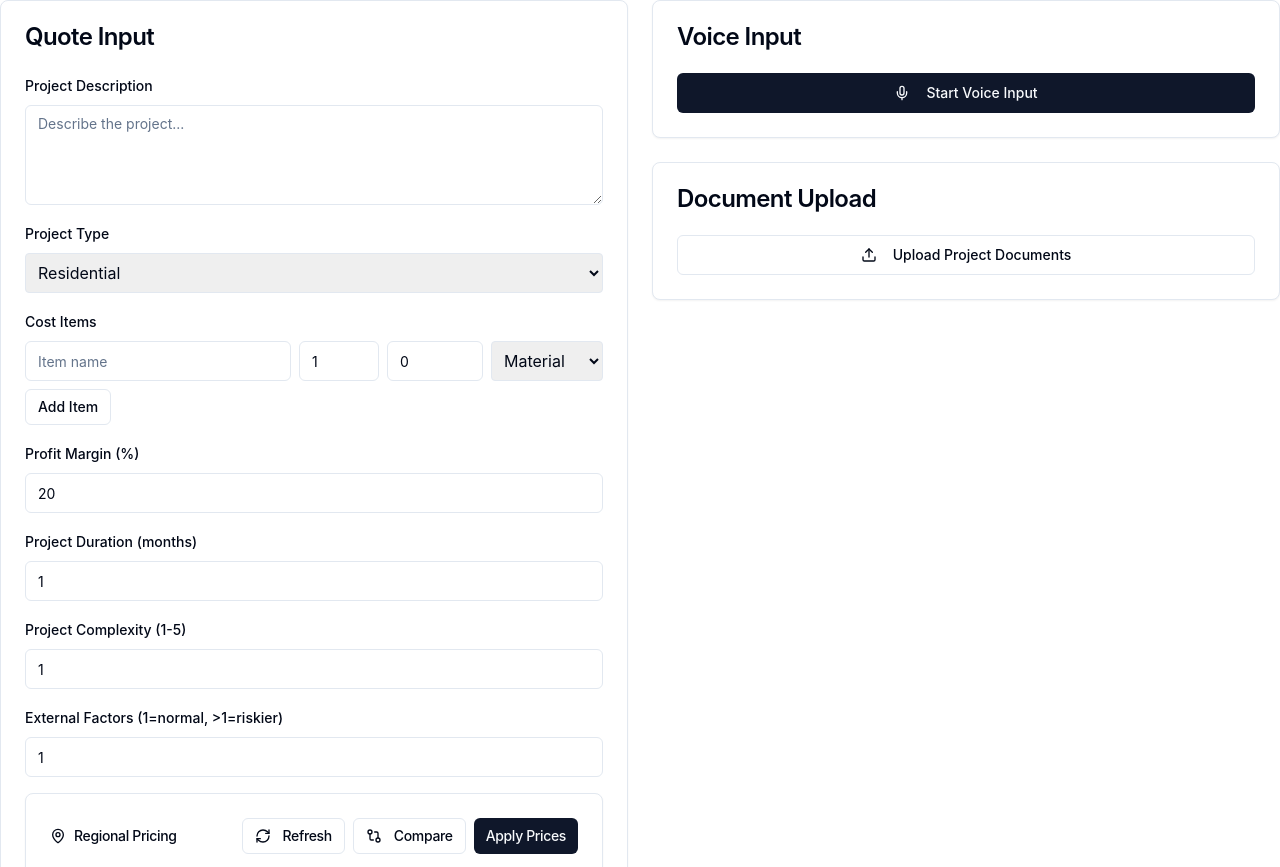
Test: QuoteEngine › adds new material fields
Click the button "Add Item" at {"x": 68, "y": 407}, box [25,389,111,425]
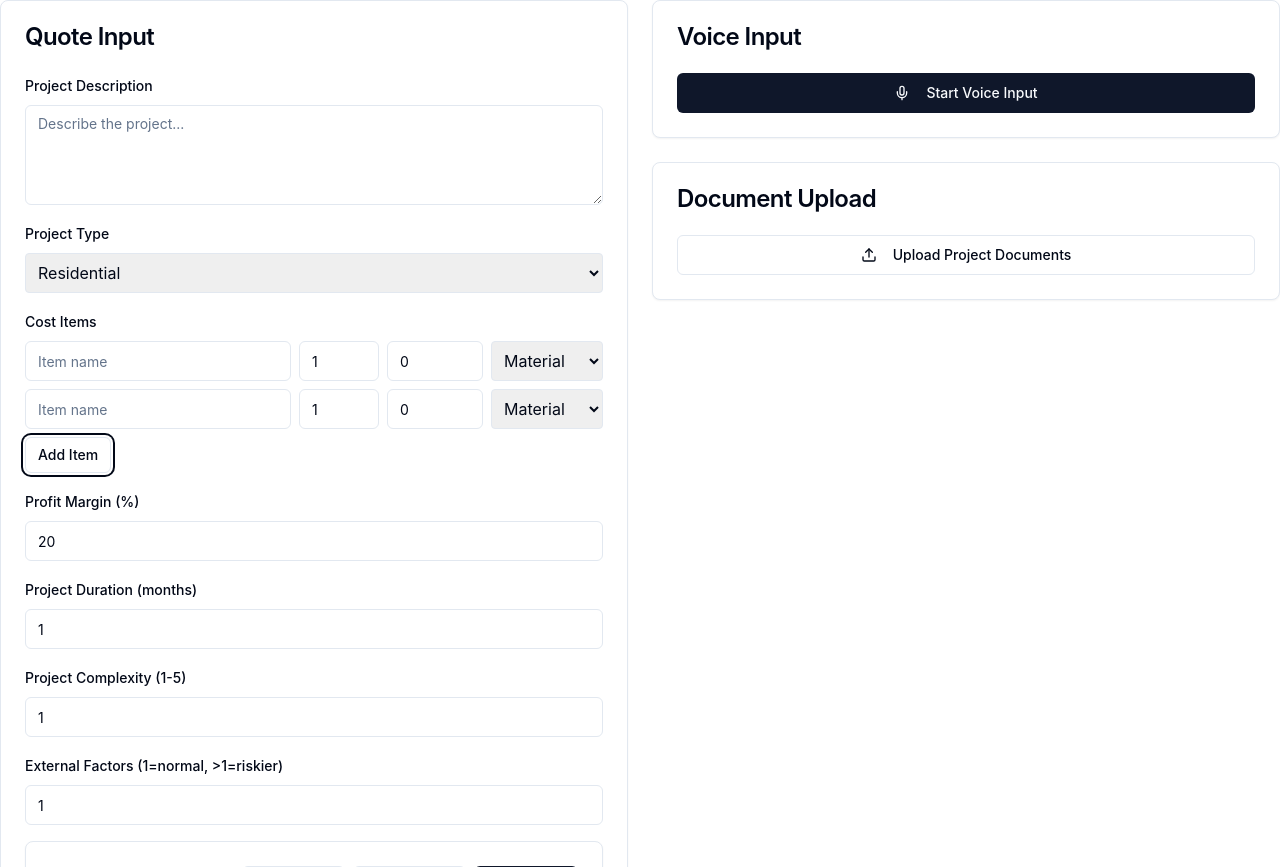
Now the number of fields with placeholder "Item name" is 2, box [25,341,291,381]; [25,389,291,429]
